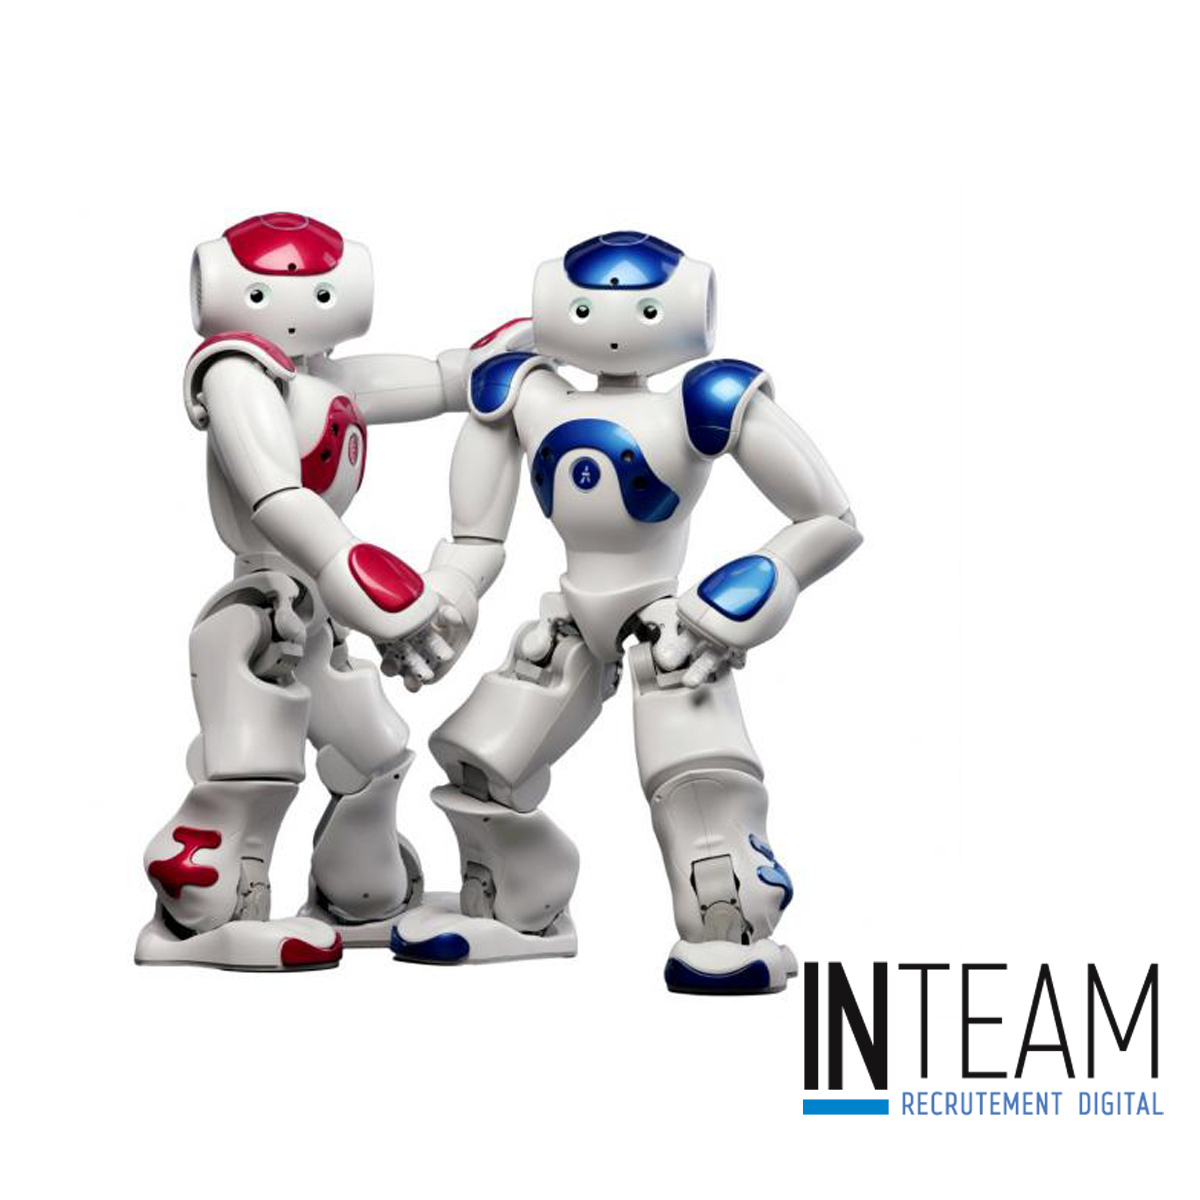nao: (410, 182, 876, 1020), (114, 197, 543, 984)
